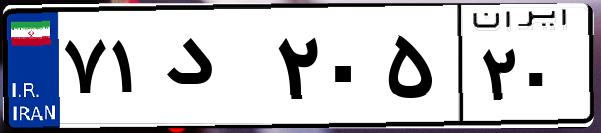0: (330, 28, 385, 110), (525, 38, 570, 115)
1: (110, 28, 158, 98)
2: (270, 28, 330, 110), (475, 38, 525, 113)
5: (385, 28, 445, 110)
7: (57, 26, 110, 100)
د: (158, 20, 270, 120)
